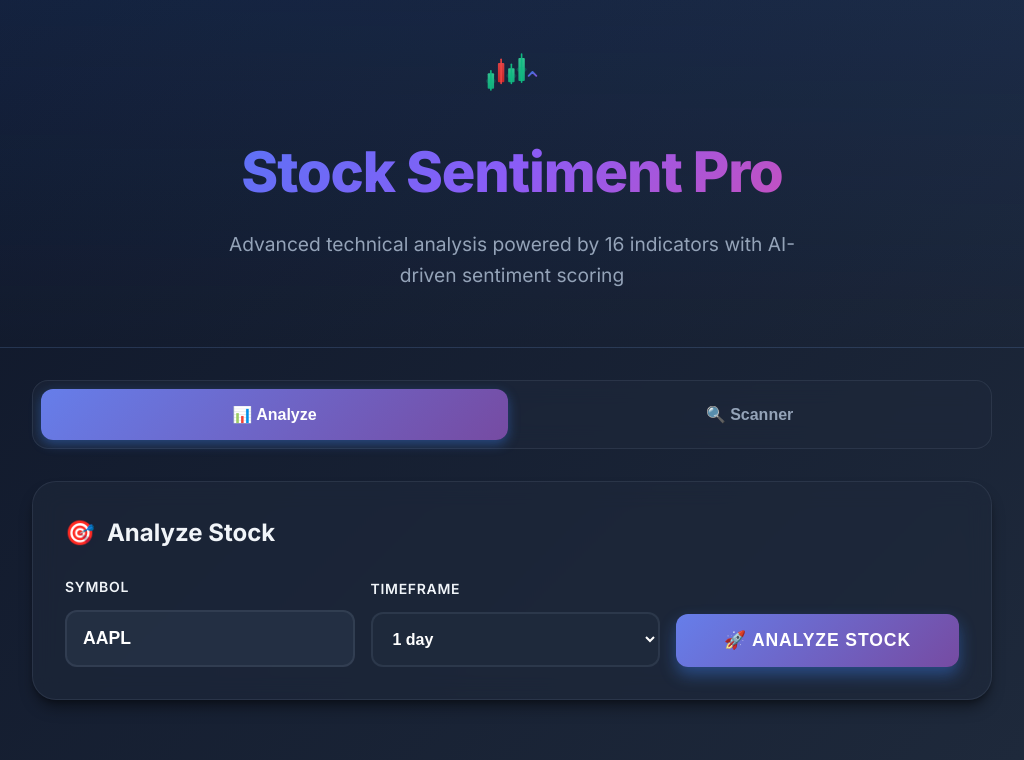
Test: Error Handling - Comprehensive Tests › 503 Service Unavailable Handling › handles 503 queued scenario
Replace the text in the field with test id "symbol-input" with "TSLA": (210, 639) [65,610,354,667]
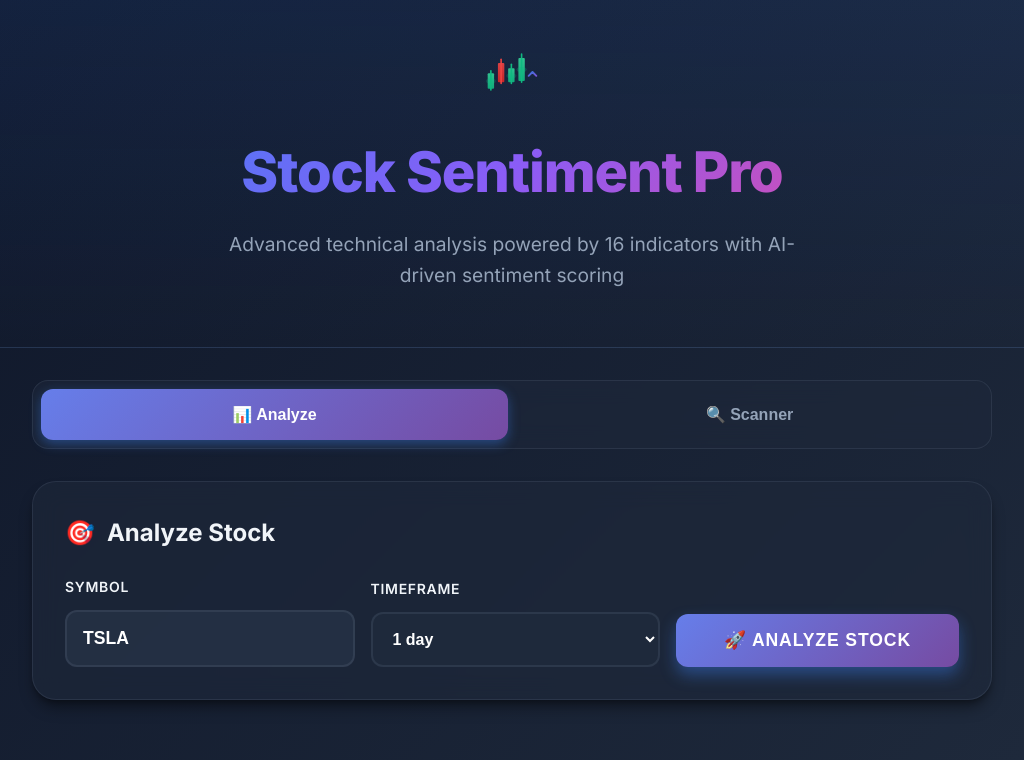
Click the button with test id "analyze-button": (818, 641) [676,614,959,667]
(page scrolled)
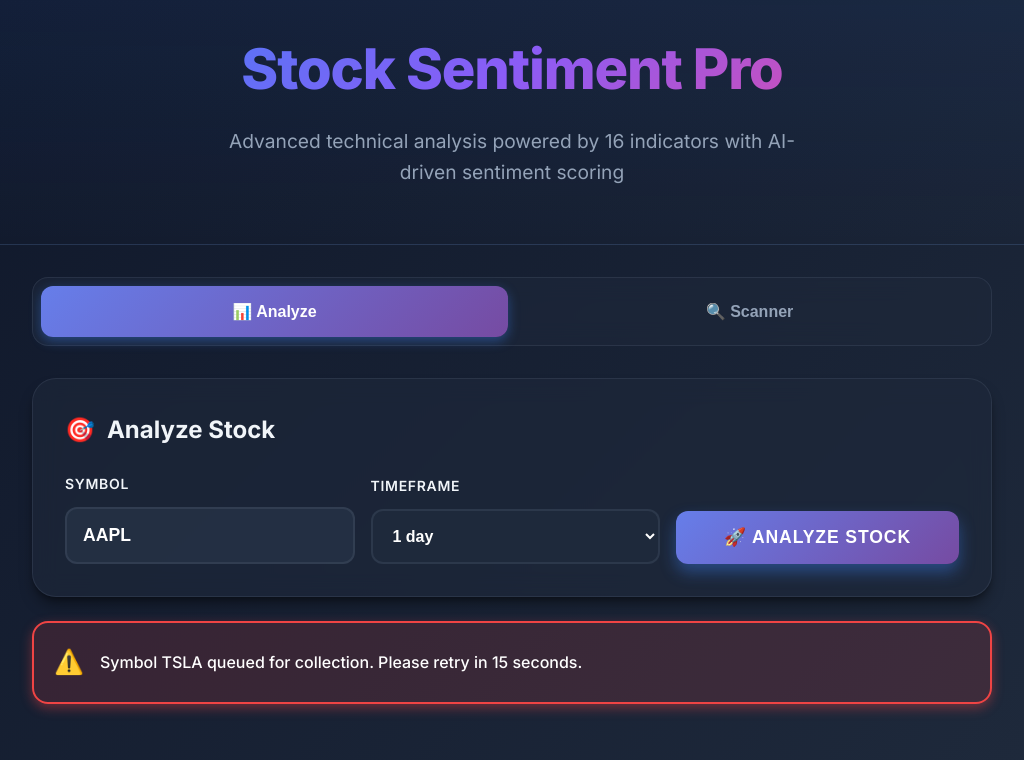
Expected: the text "Symbol TSLA queued for collection" is shown, [100,652,582,672]
